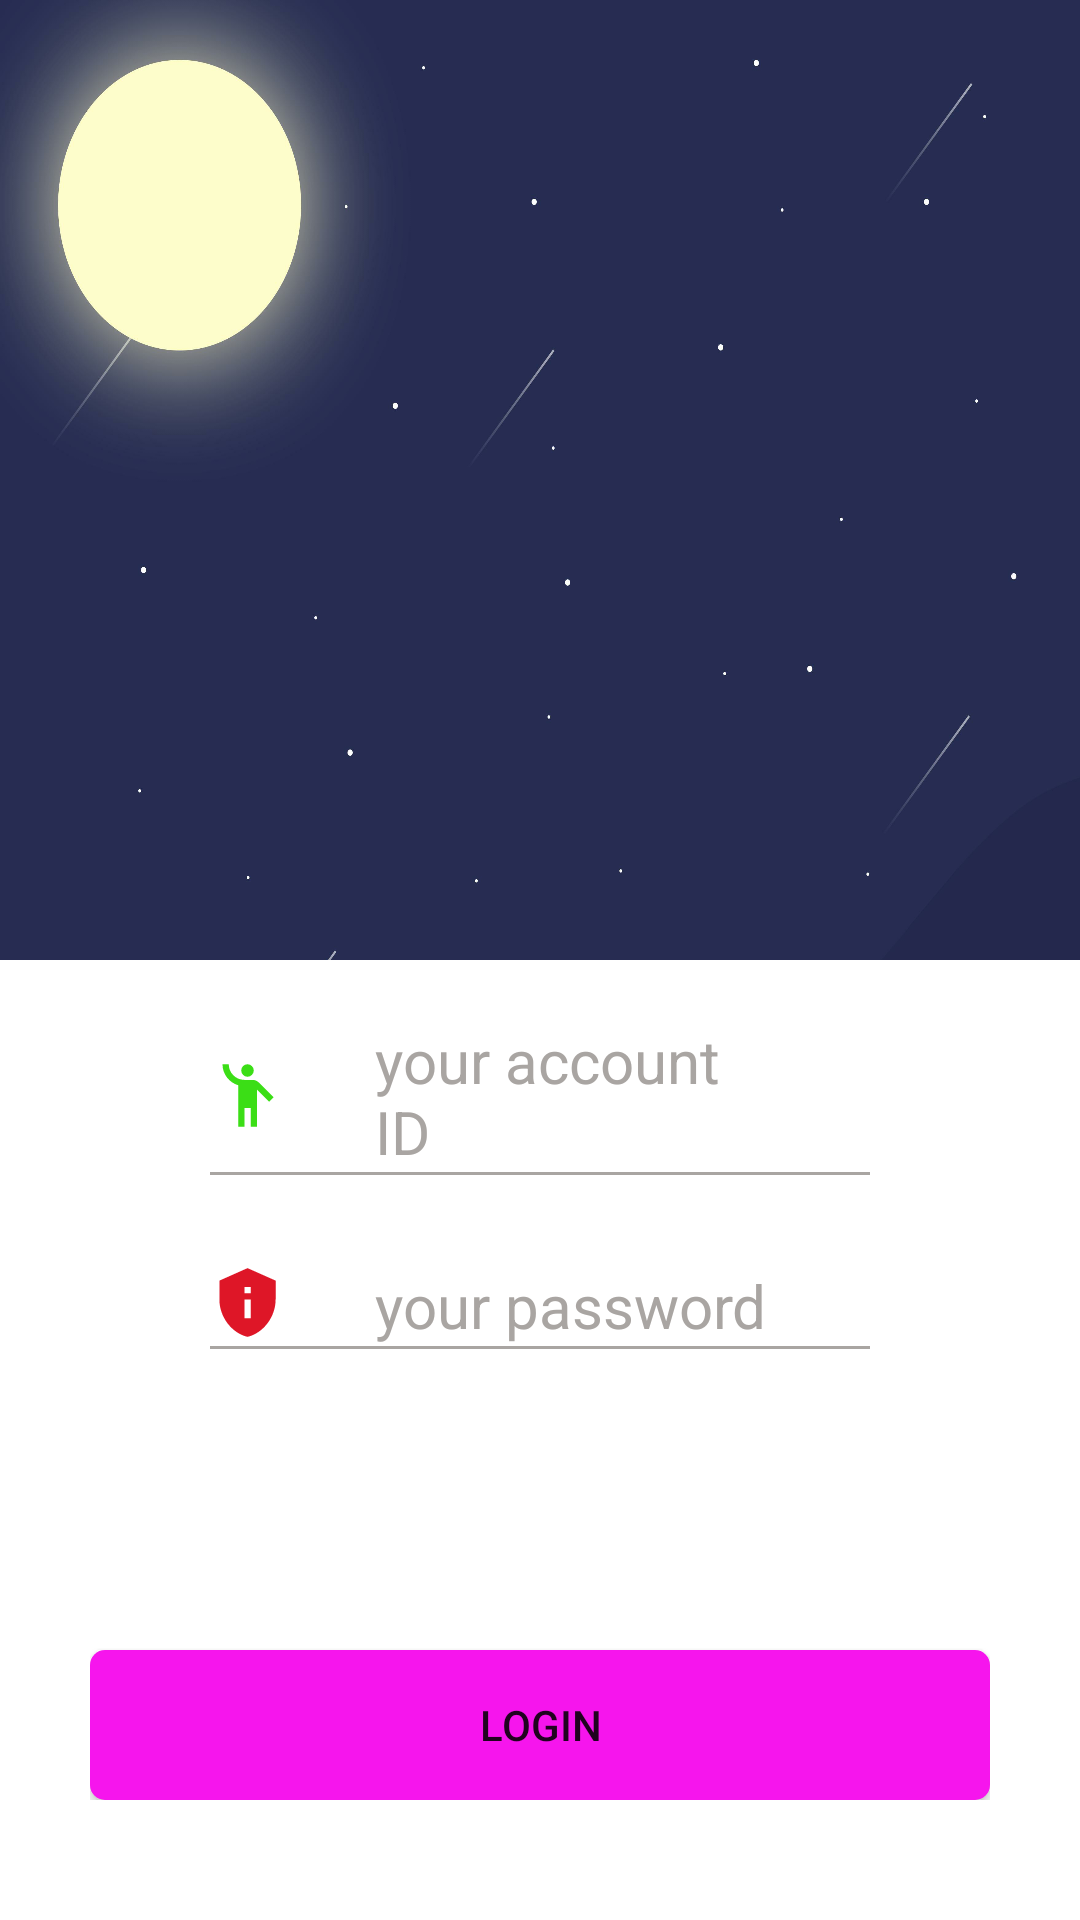

Screen size 1080px x 1920px. Icon name, then its box in pixels as rect(x1, y1, x2, y2):
lgn vec: rect(222, 1064, 274, 1127)
pwd vec: rect(219, 1268, 276, 1337)
